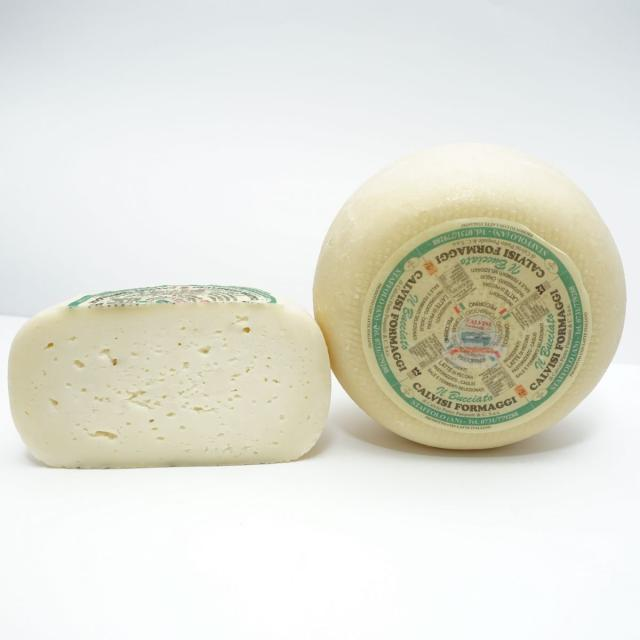Cheese: (312, 153, 630, 478), (8, 280, 348, 472)
